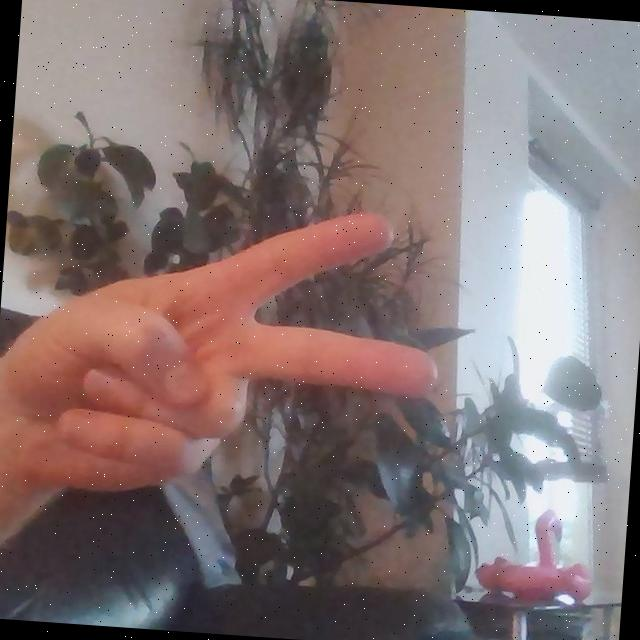scissors: (24, 187, 448, 523)
